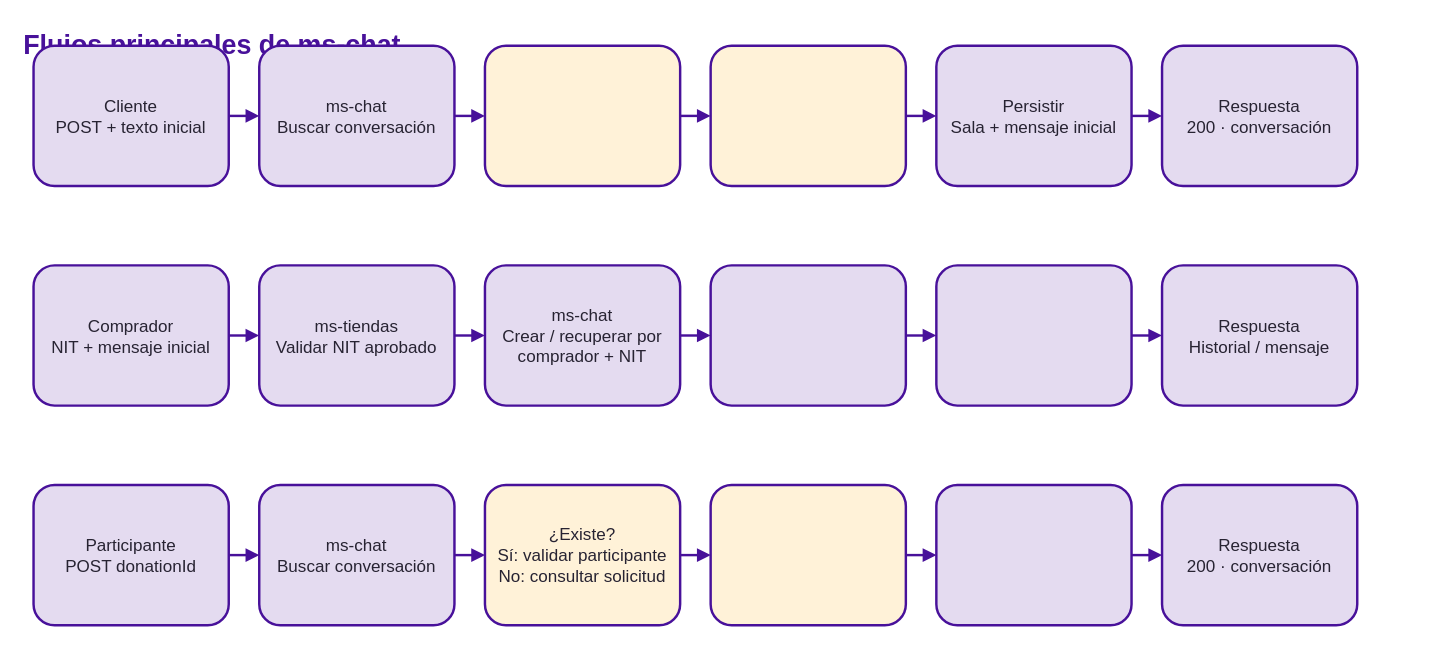
This 1432x647 diagram has some shape labels left out. Each missing label, with the box of its shape:
Admin Bandeja por NIT y responder: (935, 264, 1132, 406)
Persistir Crear conversación: (935, 483, 1132, 626)
Persistir Guardar mensaje inicial: (709, 264, 906, 406)
Regla Nueva: activa y usuario vinculado: (709, 483, 906, 626)
Regla Nueva: disponible y no propia: (709, 44, 906, 187)
¿Existe? Sí: devolver sala No: consultar publicación: (483, 44, 681, 187)
